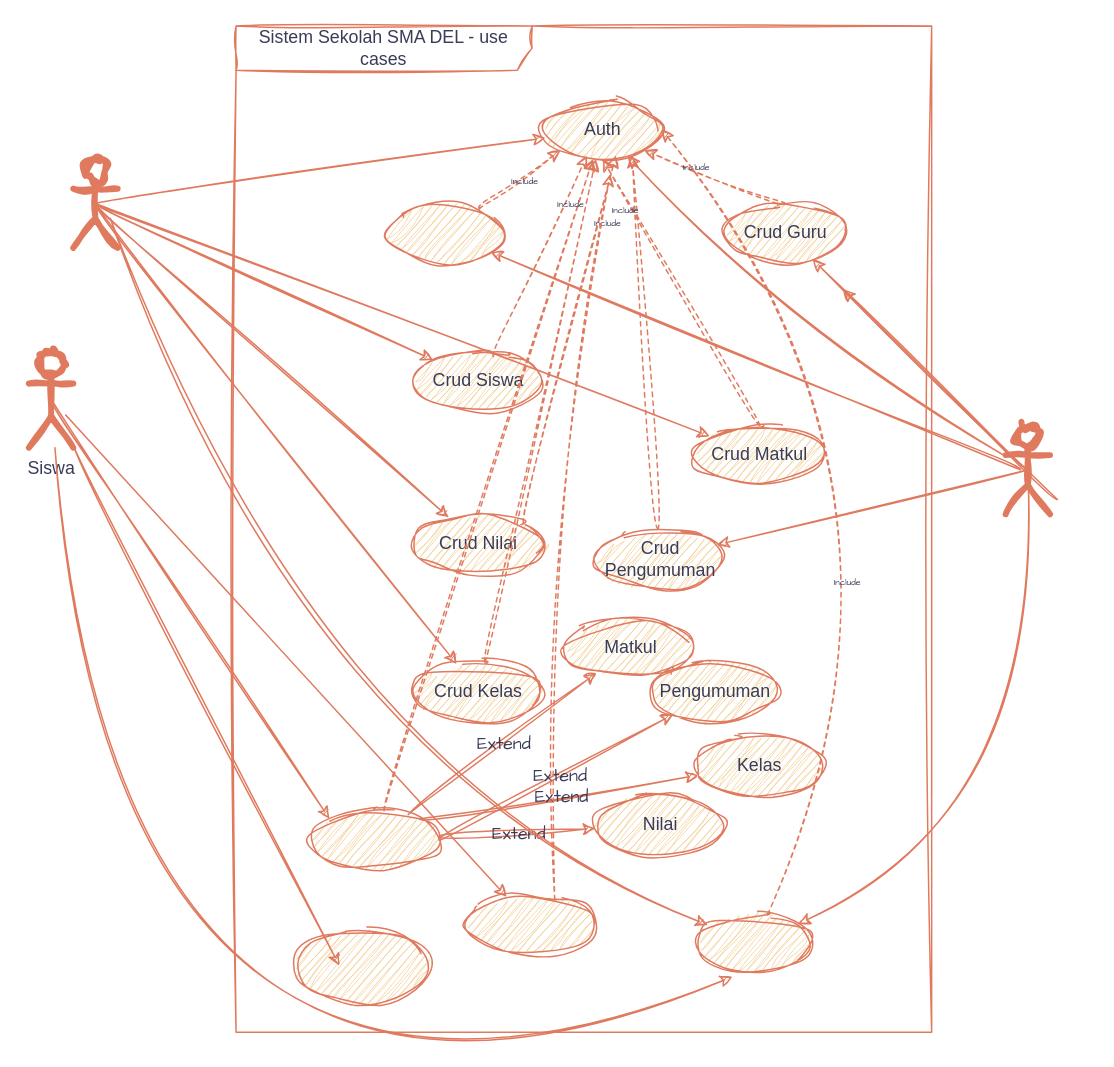
Image size: 1114x1067. Some labels were removed from this diagram. Here are the shapes that lost their labels. From the top down, the centre of each, then its label:
(x=95, y=202): Guru
(x=444, y=232): Kelola Auth
(x=1027, y=469): Kepala Sekolah
(x=374, y=839): Read
(x=530, y=923): Print Rapor
(x=753, y=942): Logout
(x=361, y=965): Read Update Profile
